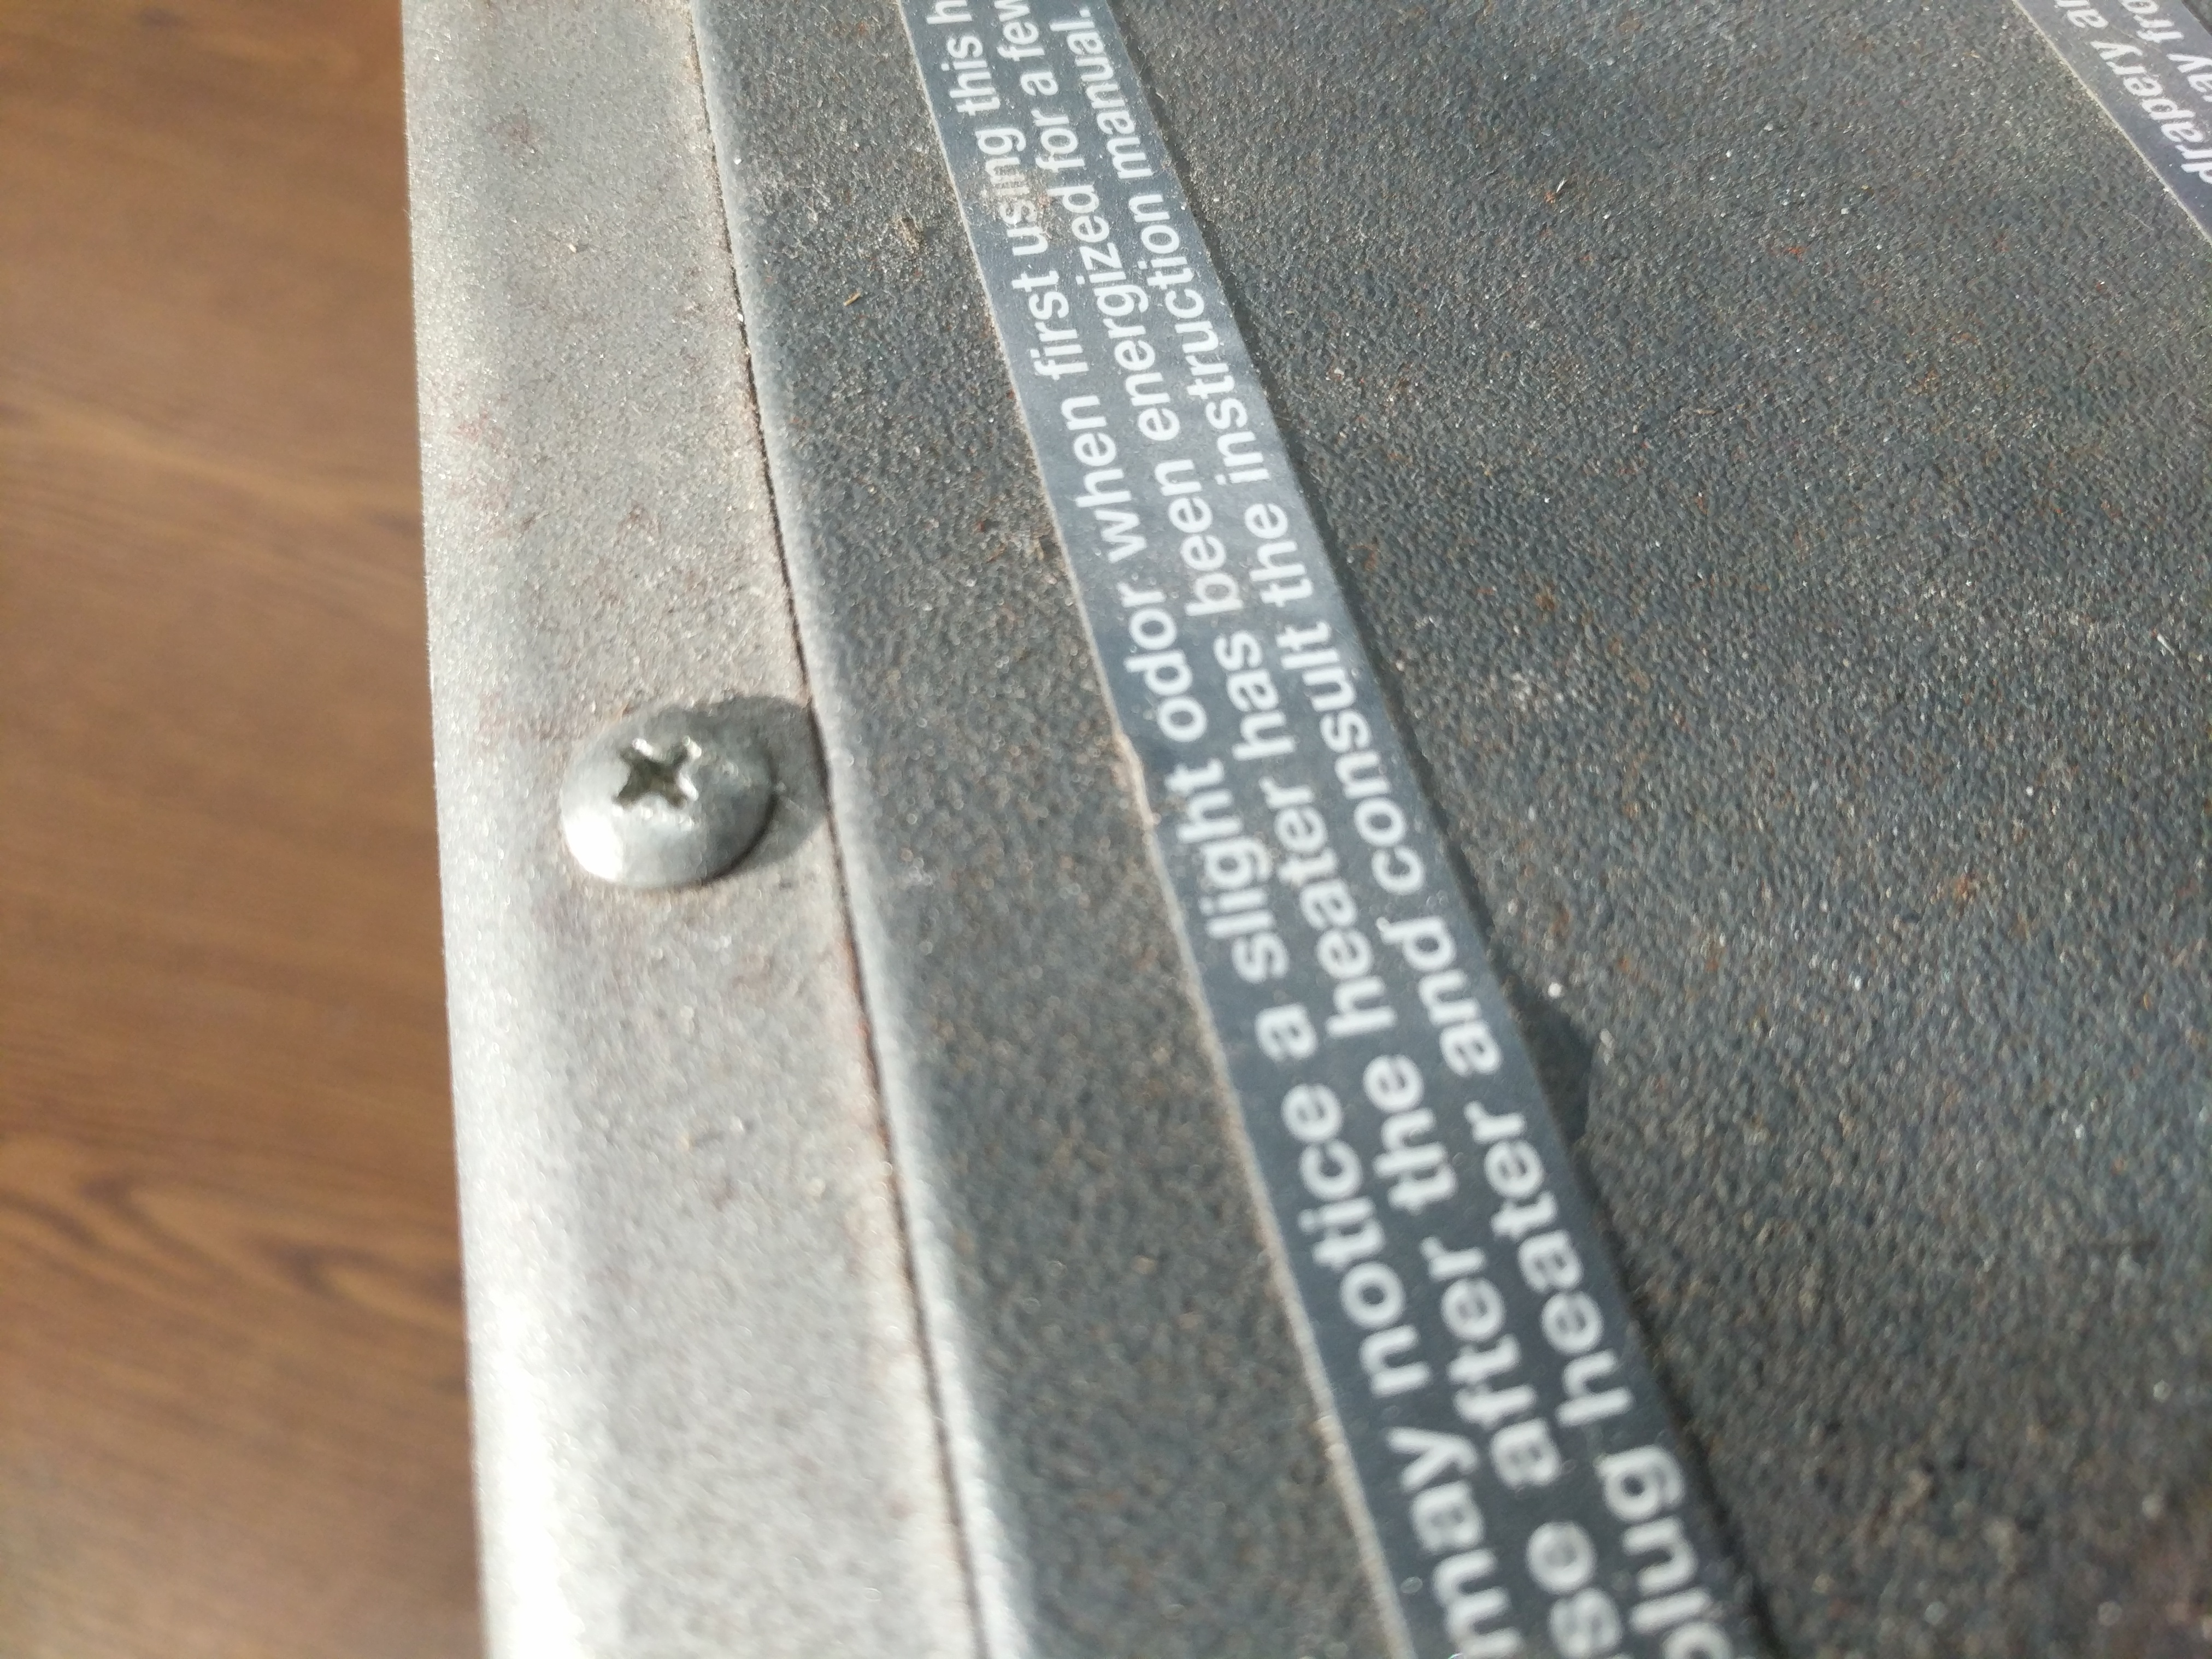cross_recessed_screw: (549, 697, 775, 889)
